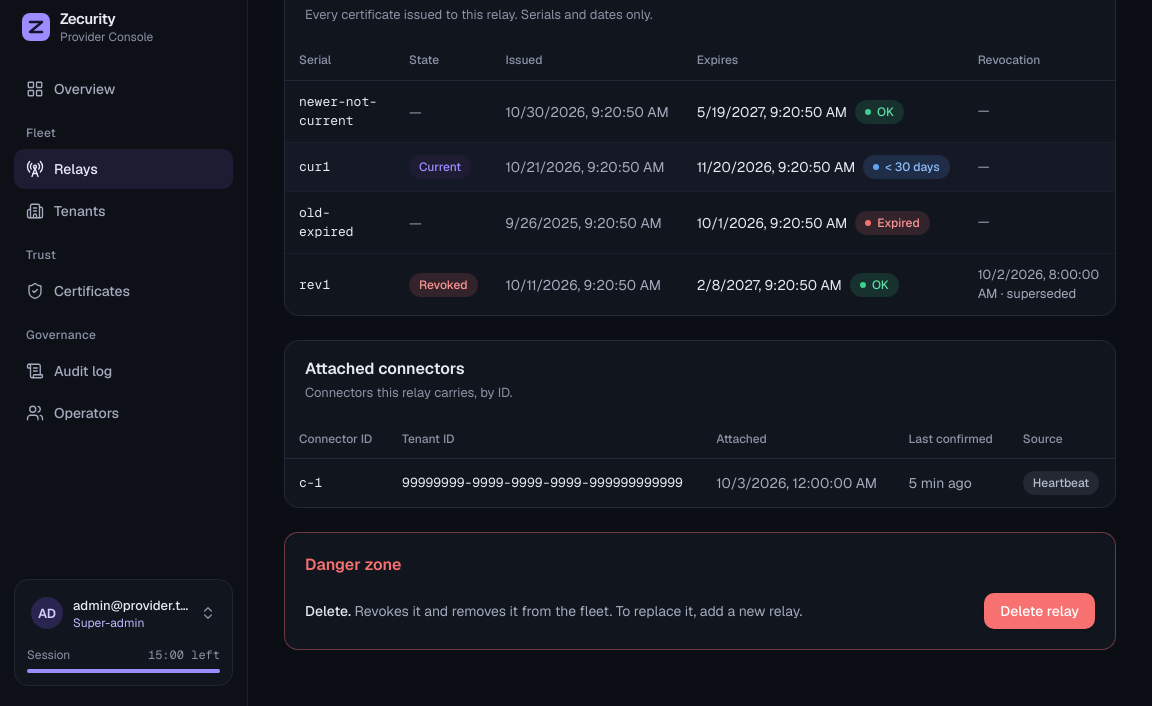
Test: Relay detail: revoke and delete requests › a revoked relay can still be deleted
(page scrolled)
Click the button "Delete relay": (1040,611) left=984, top=593, right=1095, bottom=629
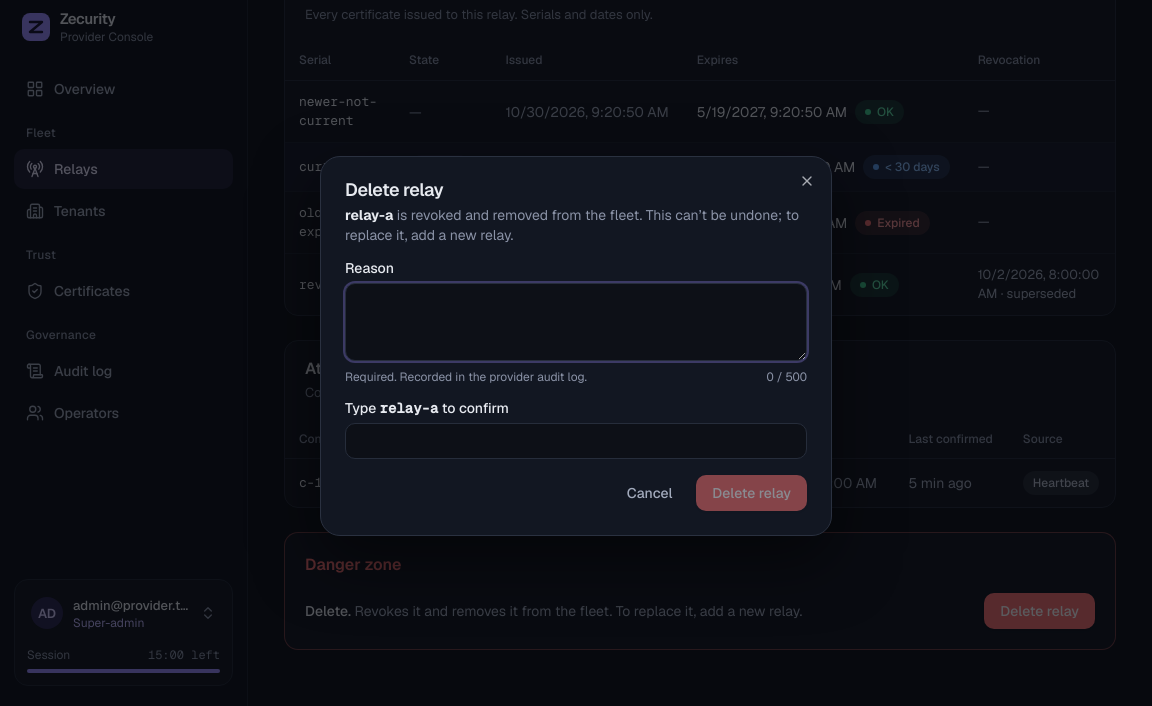
In the text box labelled "Reason": (576,322) left=345, top=283, right=807, bottom=361, type "host compromised"
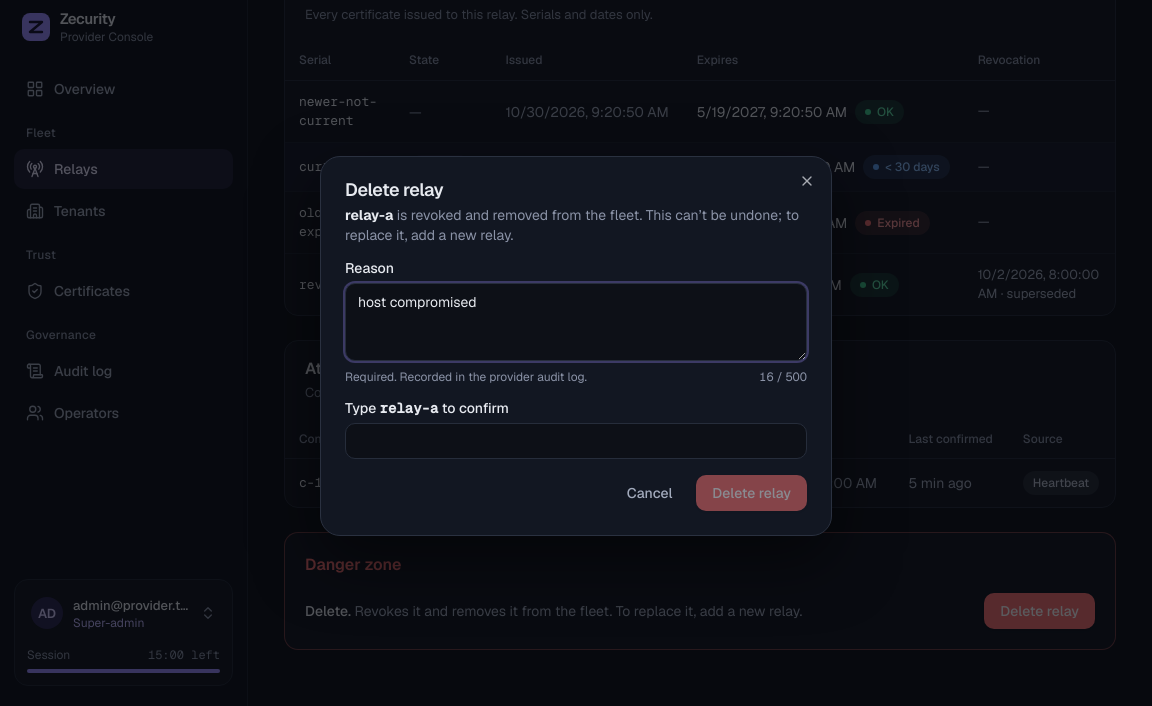
In the field labelled "Type relay-a to confirm": (576,441) left=345, top=423, right=807, bottom=459, type "relay-a"
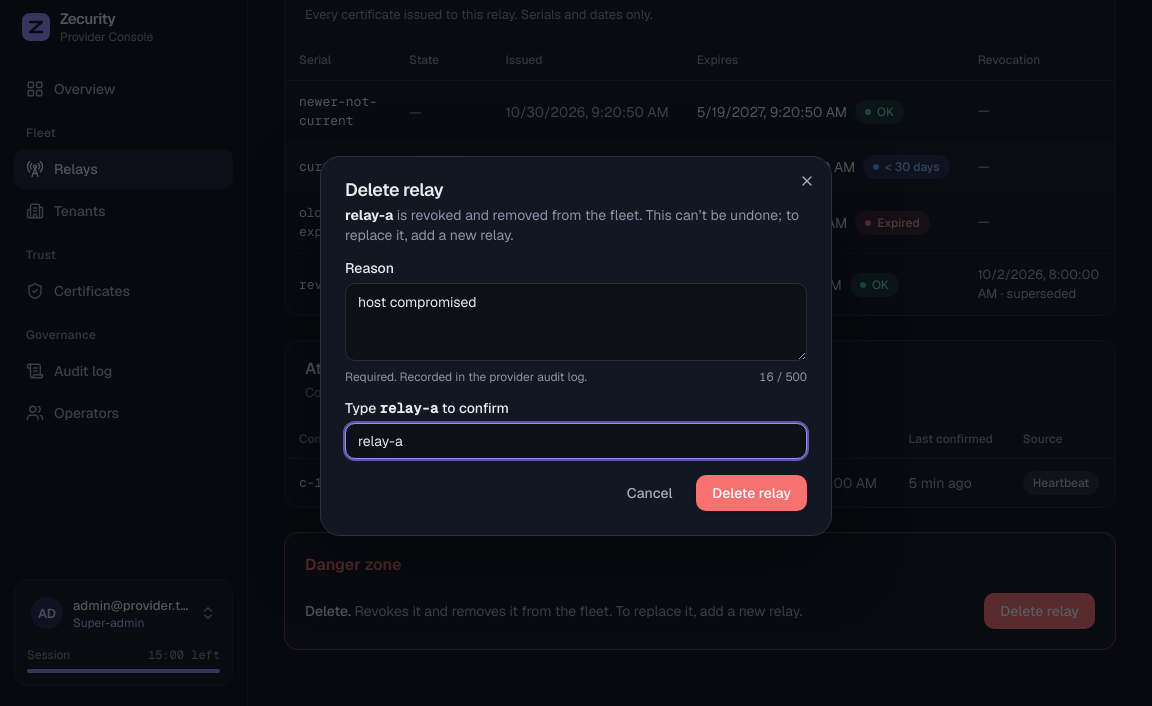
Click the button "Delete relay": (752,493) left=696, top=475, right=807, bottom=511
(page scrolled)
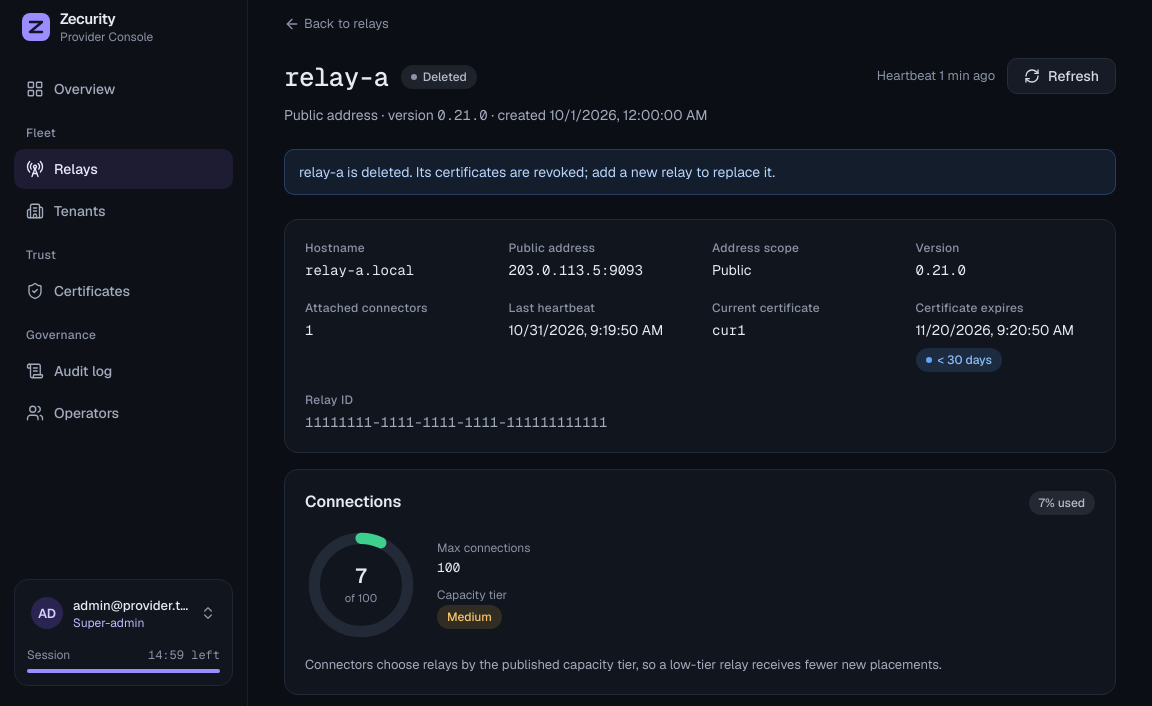
Expected: the text "relay-a is deleted" is shown, left=299, top=162, right=775, bottom=180
